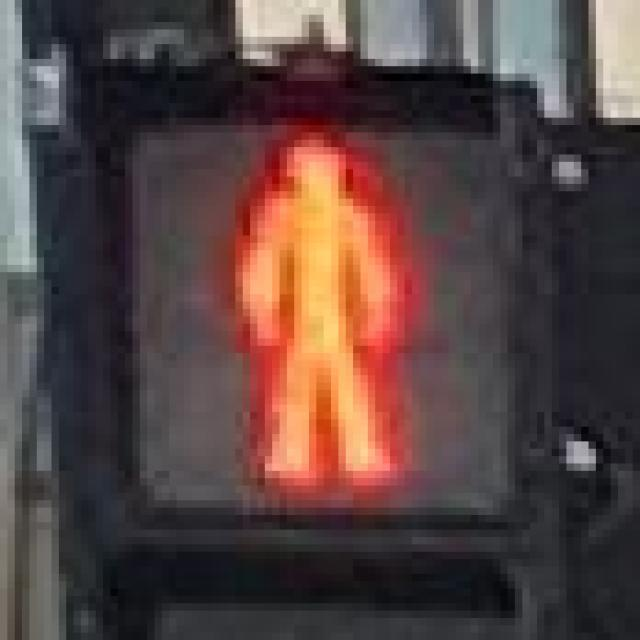red_light: (102, 95, 522, 522)
